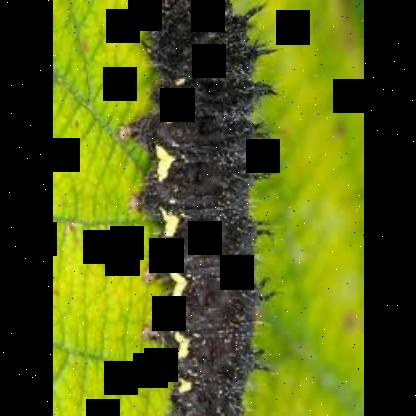oruga: (137, 0, 259, 416)
